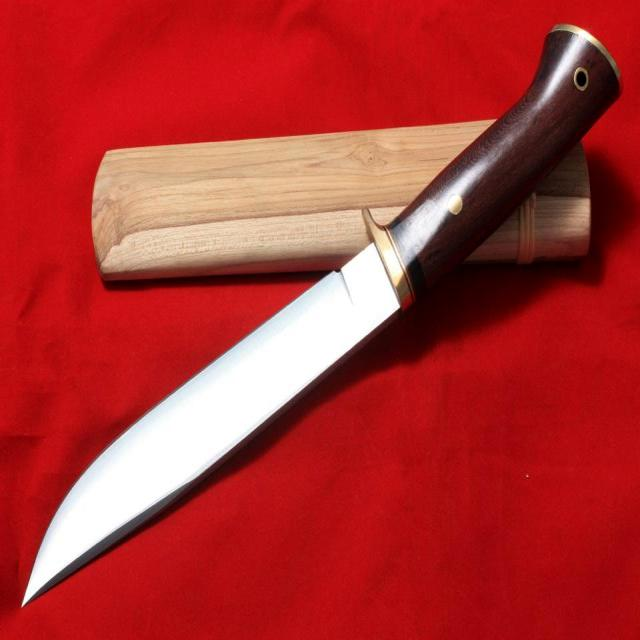short sword: (17, 21, 625, 613)
